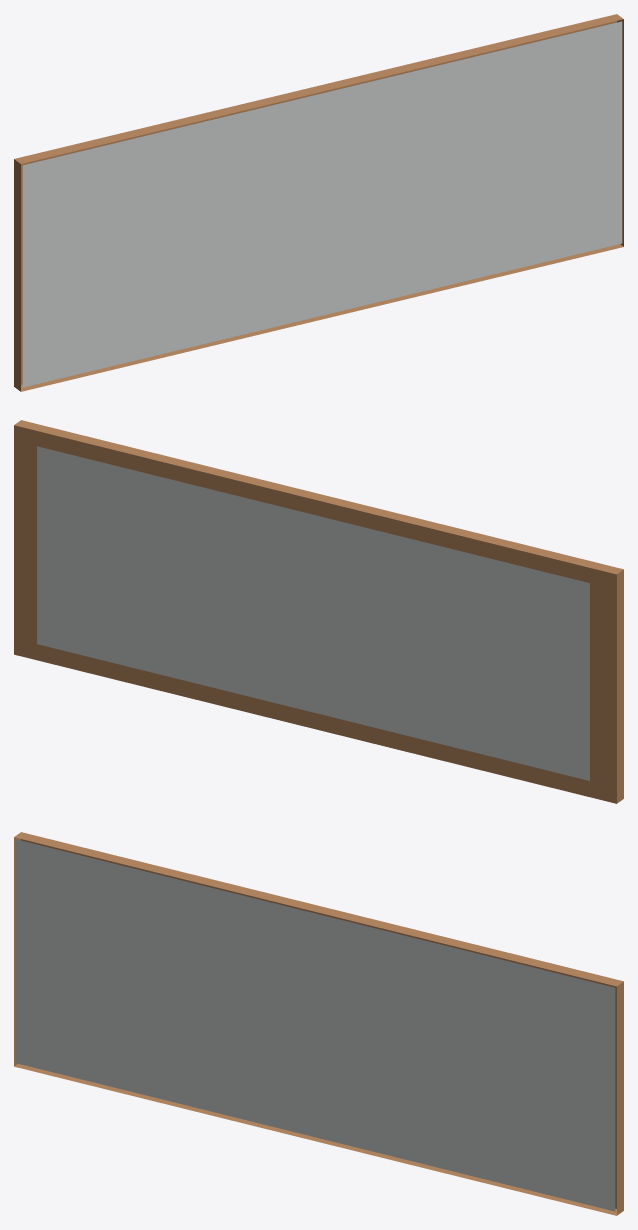
The model's file is Whiteboard.fbx.
3 views of the same model, one above another, from view 1: azimuth 30°, elevation 25°; view 2: azimuth 150°, elevation 25°; view 3: azimuth 330°, elevation 25° (orthographic).
Parts seen in each view (by area): view 1: Plane.001; view 2: Plane.001; view 3: Plane.001.
Boxes of the visible parts, x1,y1,x2,y2 form: Plane.001: [14, 14, 623, 391]; Plane.001: [14, 420, 623, 803]; Plane.001: [14, 832, 623, 1215].
Size of the model in its own units: 688 by 249 by 18.4.
